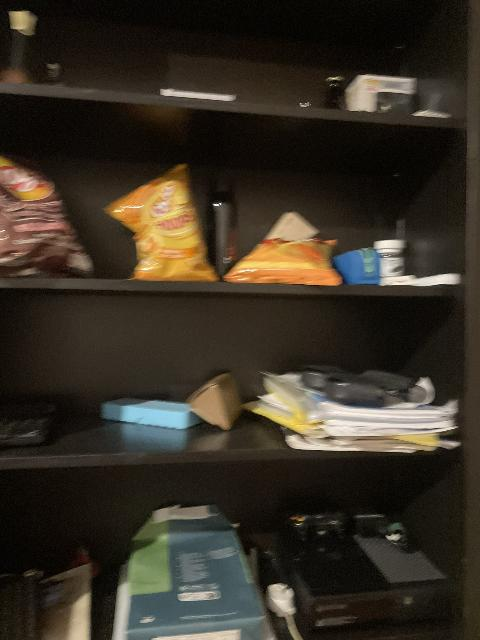Chio Cascaval 125g: (222, 210, 343, 285)
Chio Hula Hoops Cheese 70g: (103, 161, 221, 281)
Lays Beef Grilled Ribs 125g: (0, 150, 95, 278)
